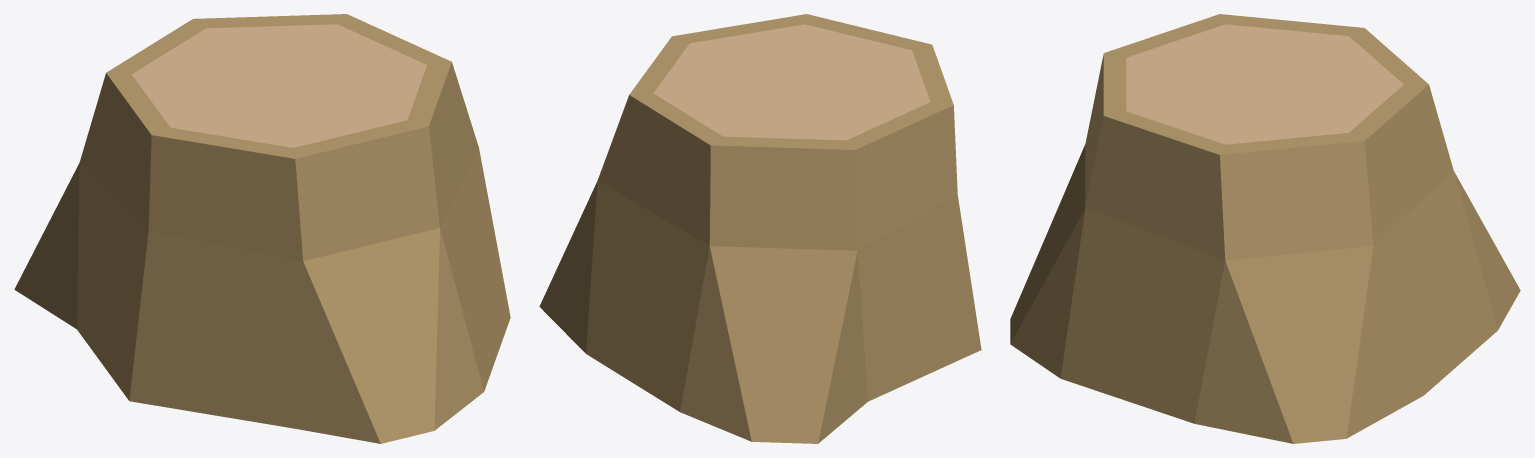
The model's file is Acacia_Stump_04_LOD.fbx.
The picture shows the model from 3 angles, left to right: view 1: azimuth 30°, elevation 25°; view 2: azimuth 150°, elevation 25°; view 3: azimuth 270°, elevation 25°; orthographic projection. The views are drawn at different scales.
Visible parts, largest first — view 1: Acacia_Stump_04_LOD0; view 2: Acacia_Stump_04_LOD0; view 3: Acacia_Stump_04_LOD0.
Boxes of the visible parts, box(x1,y1,x2,y2) form: Acacia_Stump_04_LOD0: box(14, 14, 510, 443); Acacia_Stump_04_LOD0: box(539, 14, 981, 443); Acacia_Stump_04_LOD0: box(1010, 14, 1520, 443).
Size of what is drawn, in the model's own units: 63.6 by 38.1 by 70.83.
